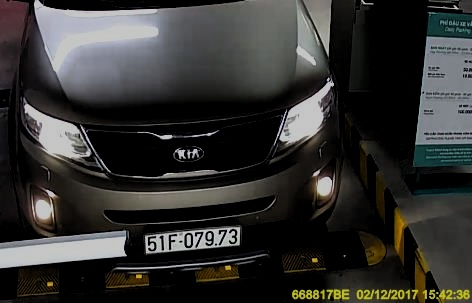plate: (145, 224, 242, 255)
